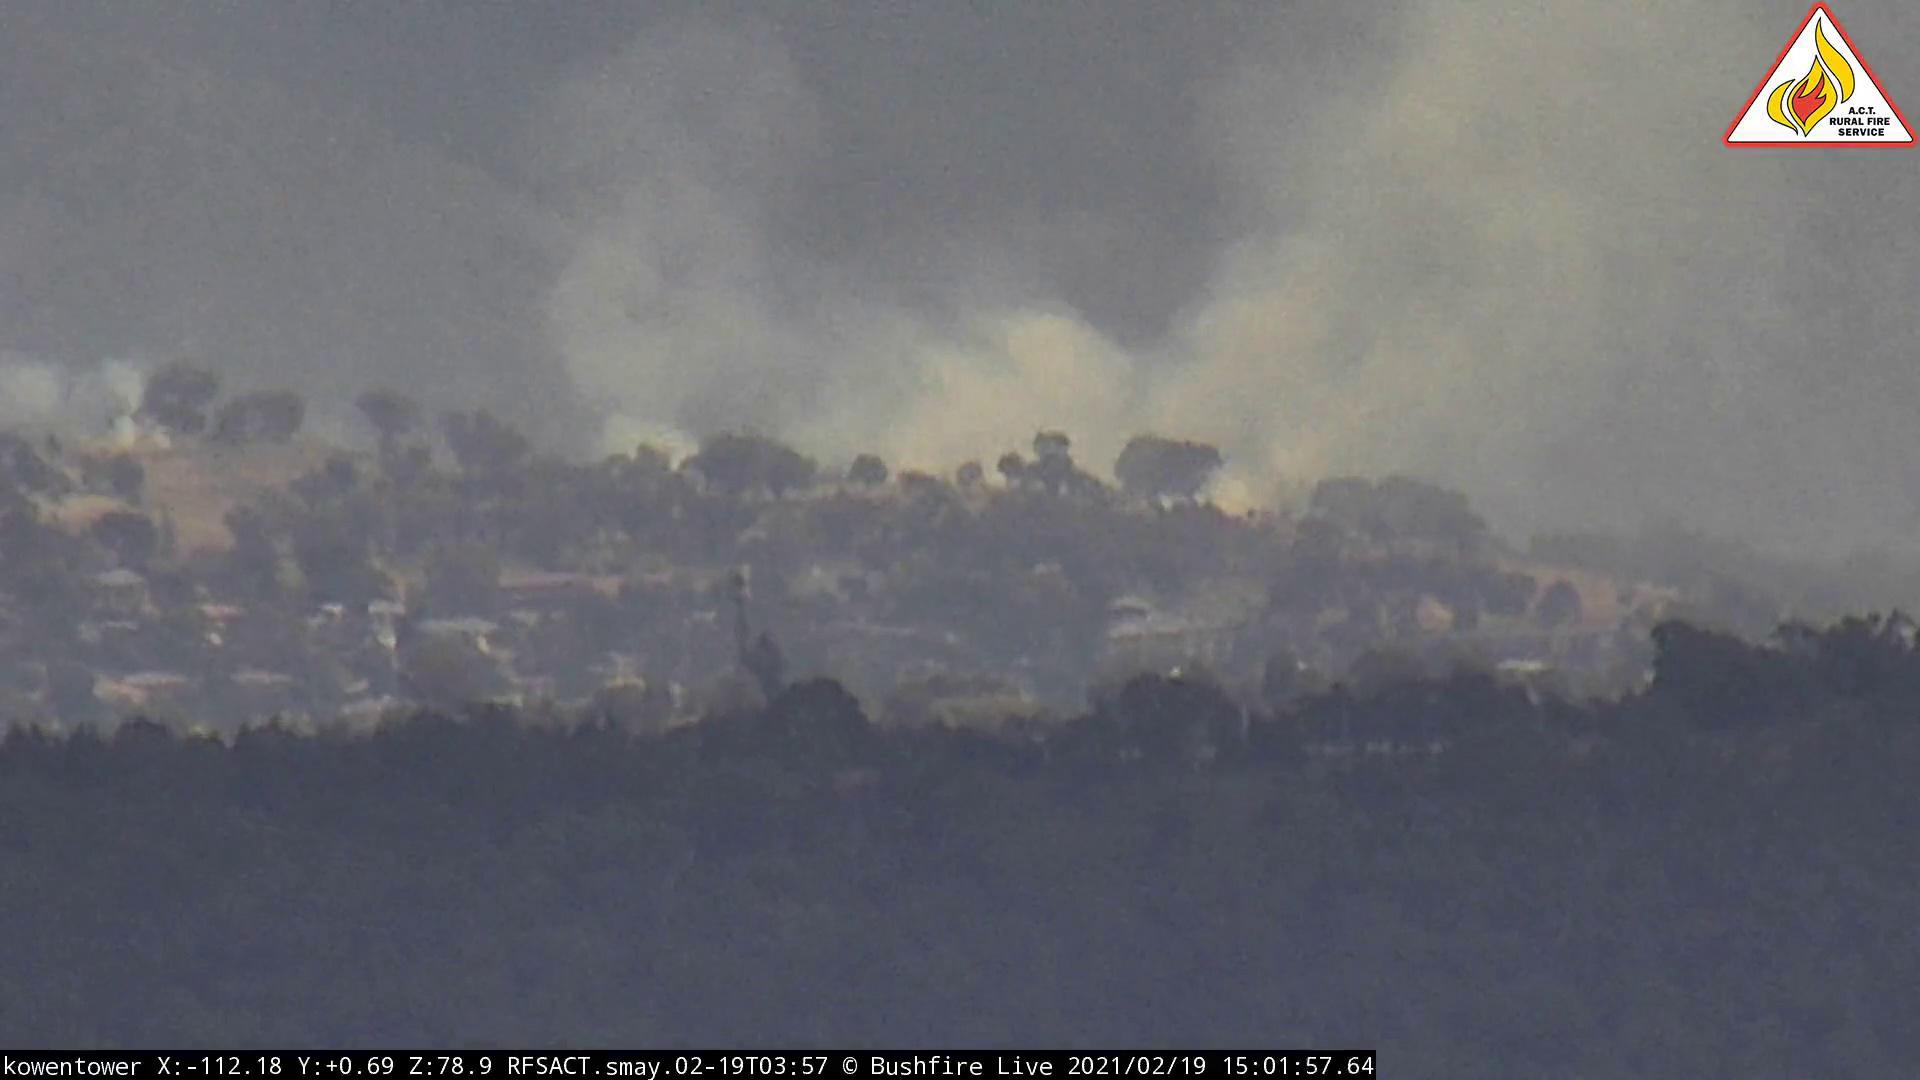Smoke: (438, 24, 1712, 572)
